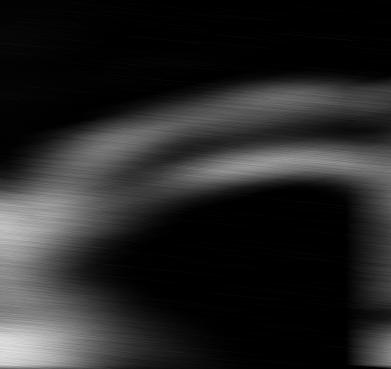Airbag: (0, 0, 391, 368), (373, 11, 391, 368), (0, 367, 359, 369)
